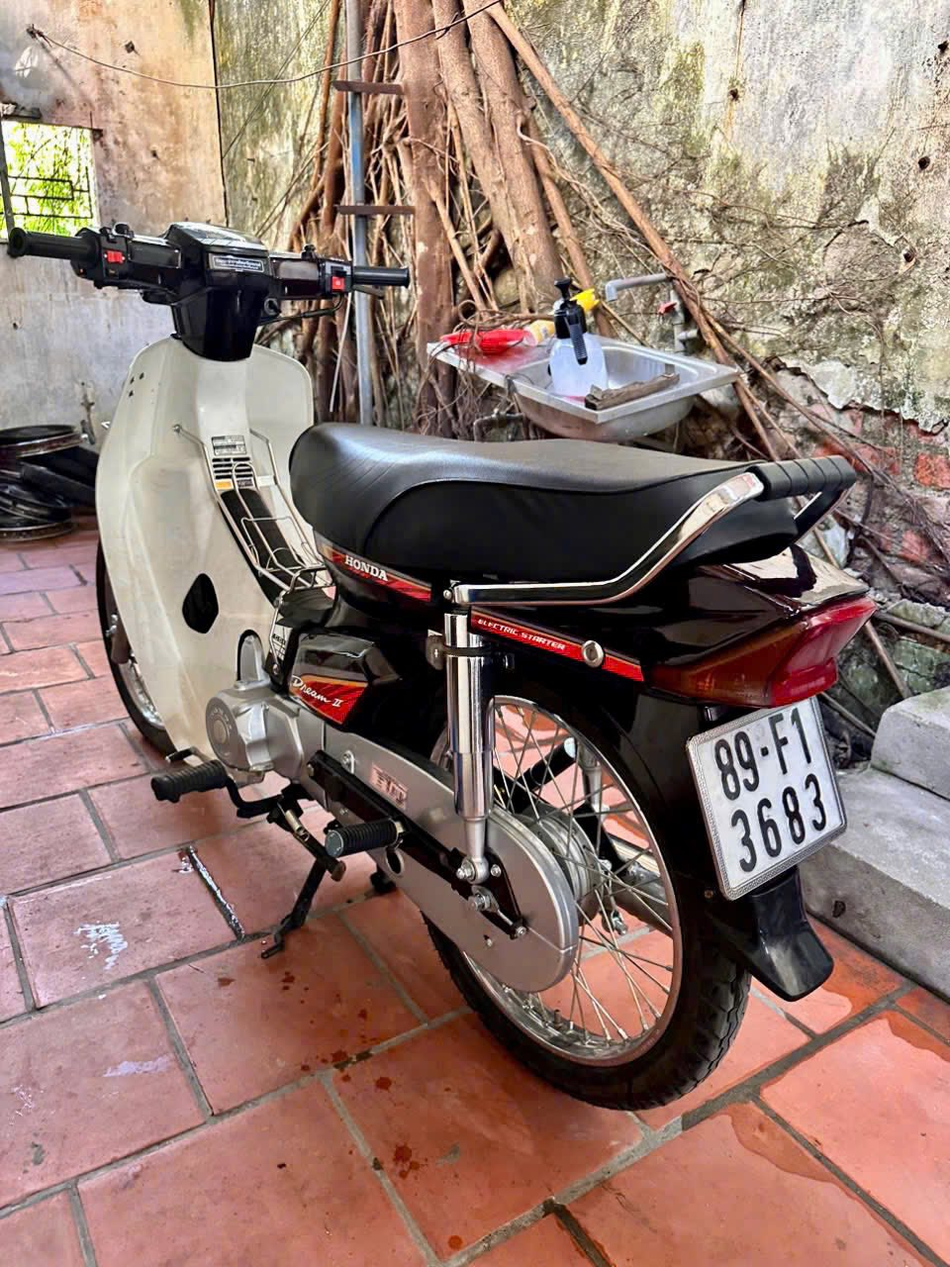bien_so: (678, 665, 863, 912)
